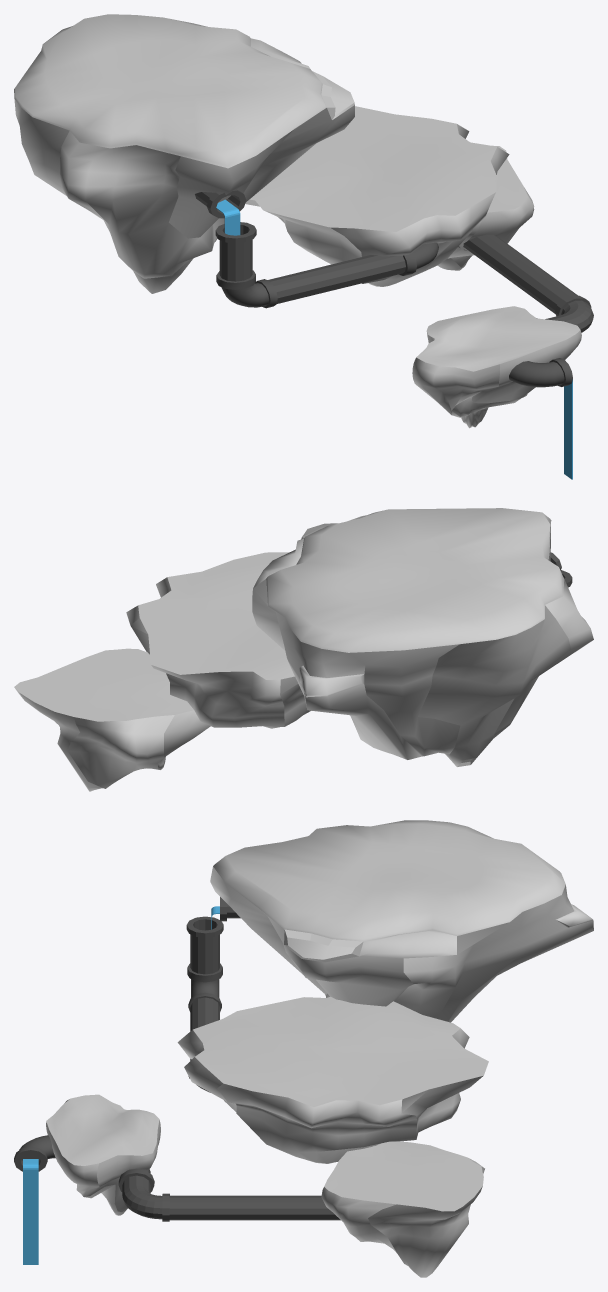
3 renders of one model, top to bottom at view 1: azimuth 30°, elevation 25°; view 2: azimuth 150°, elevation 25°; view 3: azimuth 270°, elevation 25°, orthographic. The views are drawn at different scales.
Parts seen in each view (by area): view 1: MainIsland, BridgeislandBig, RoutteIsland, Cylinder.022_69, BridgeIslandSmall, Cylinder.001_67, Cylinder.025_71, Torus.002_149, Torus.004_151, Torus.000_147, Plane_134, Cylinder.031_77 (+1 smaller); view 2: MainIsland, BridgeislandBig, BridgeIslandSmall; view 3: MainIsland, BridgeislandBig, BridgeIslandSmall, RoutteIsland, Cylinder.001_67, Cylinder.025_71, Plane_134, Torus.000_147, Torus.004_151, Torus.002_149, Cylinder.022_69.
Part boxes in pixels (x1=…): MainIsland: x1=14, y1=14, x2=354, y2=293; BridgeislandBig: x1=245, y1=106, x2=509, y2=286; RoutteIsland: x1=412, y1=306, x2=581, y2=428; Cylinder.022_69: x1=268, y1=255, x2=405, y2=303; BridgeIslandSmall: x1=437, y1=145, x2=534, y2=270; Cylinder.001_67: x1=463, y1=234, x2=577, y2=313; Cylinder.025_71: x1=215, y1=222, x2=256, y2=281; Torus.002_149: x1=509, y1=358, x2=572, y2=387; Torus.004_151: x1=216, y1=270, x2=277, y2=308; Torus.000_147: x1=545, y1=295, x2=593, y2=332; Plane_134: x1=564, y1=379, x2=572, y2=479; Cylinder.031_77: x1=195, y1=189, x2=246, y2=218; MainIsland: x1=252, y1=508, x2=593, y2=766; BridgeislandBig: x1=126, y1=552, x2=310, y2=728; BridgeIslandSmall: x1=14, y1=648, x2=210, y2=791; MainIsland: x1=210, y1=820, x2=593, y2=1022; BridgeislandBig: x1=177, y1=996, x2=488, y2=1163; BridgeIslandSmall: x1=321, y1=1141, x2=484, y2=1277; RoutteIsland: x1=46, y1=1094, x2=160, y2=1215; Cylinder.001_67: x1=169, y1=1195, x2=340, y2=1220; Cylinder.025_71: x1=186, y1=916, x2=223, y2=974; Plane_134: x1=23, y1=1159, x2=38, y2=1264; Torus.000_147: x1=122, y1=1169, x2=169, y2=1221; Torus.004_151: x1=187, y1=963, x2=222, y2=1011; Torus.002_149: x1=14, y1=1135, x2=55, y2=1171; Cylinder.022_69: x1=190, y1=997, x2=219, y2=1060.
Bounding box in the file's own units: 0.6892 × 0.4123 × 0.7267.
